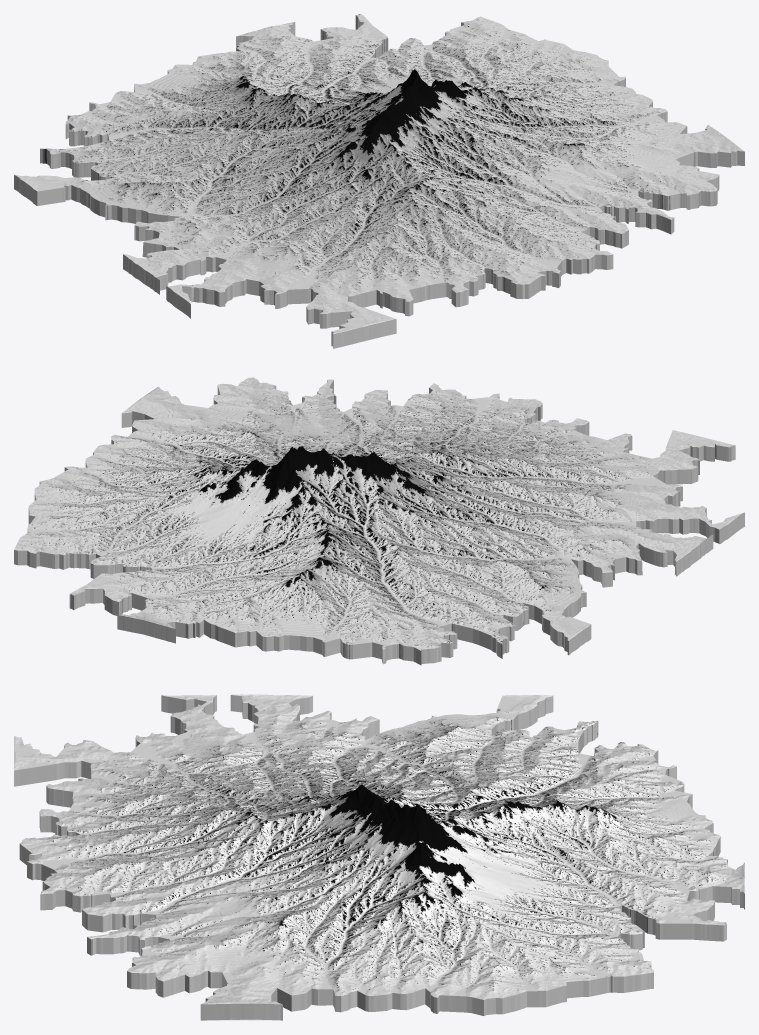
The model's file is low_poly_mountain-transformed.glb.
3 renders of one model, top to bottom at view 1: azimuth 30°, elevation 25°; view 2: azimuth 150°, elevation 25°; view 3: azimuth 270°, elevation 25°, orthographic. The views are drawn at different scales.
Parts seen in each view (by area): view 1: Plane_Material.002_0; view 2: Plane_Material.002_0; view 3: Plane_Material.002_0.
Boxes of the visible parts, <box> form: Plane_Material.002_0: <box>14,14,744,348</box>; Plane_Material.002_0: <box>14,377,744,665</box>; Plane_Material.002_0: <box>14,694,744,1020</box>.
Bounding box in the file's own units: 3.8 × 0.5249 × 3.8.
Materials: 1 (1 with a texture image).
